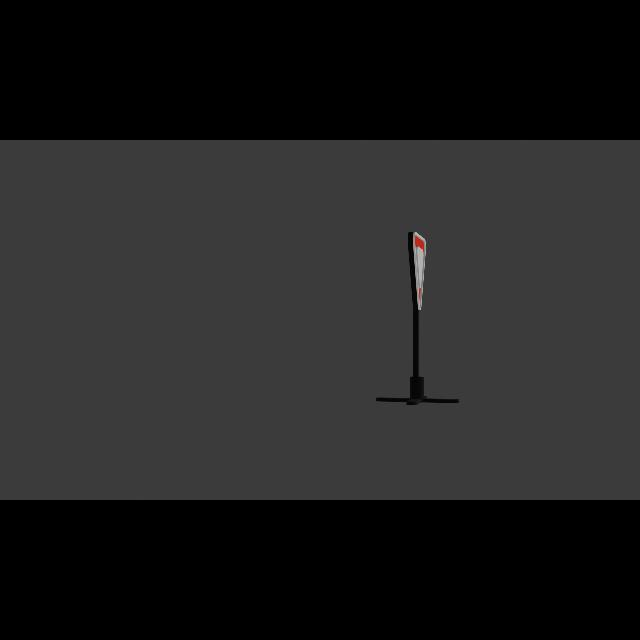sign_yield: (409, 232, 430, 312)
